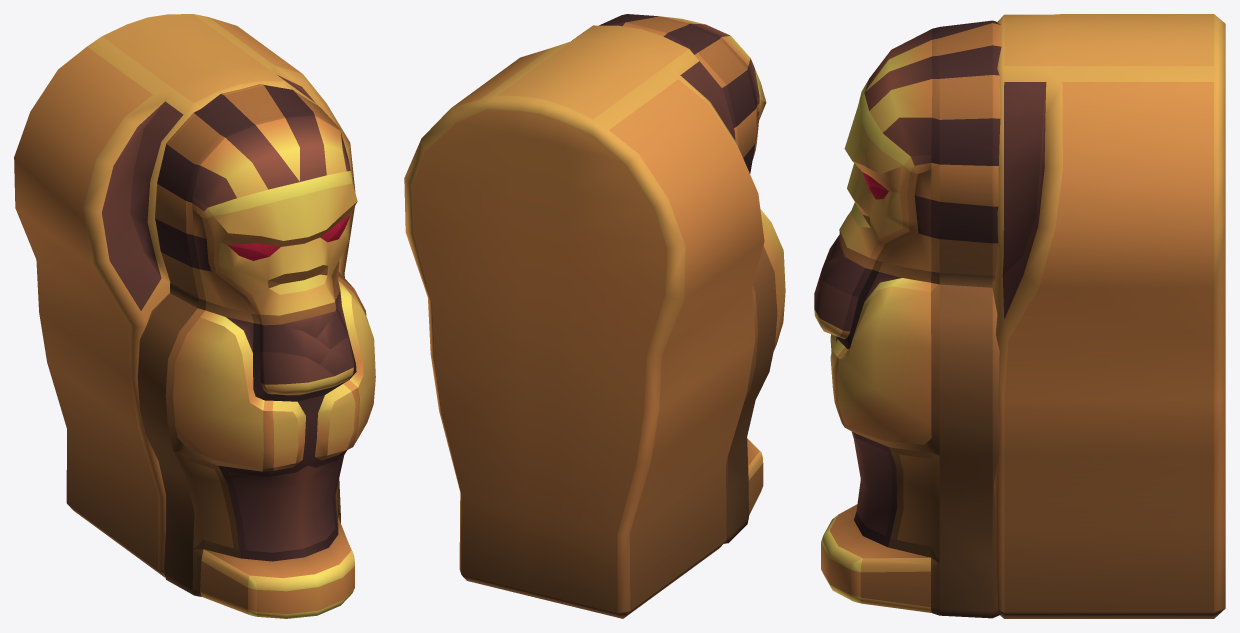
File: sarcophagus_standing_large.fbx
3 views of the same model, side by side, from view 1: azimuth 30°, elevation 25°; view 2: azimuth 150°, elevation 25°; view 3: azimuth 270°, elevation 25° (orthographic). The views are drawn at different scales.
Parts seen in each view (by area): view 1: sarcophagus_standing_large_lid, sarcophagus_standing_large; view 2: sarcophagus_standing_large, sarcophagus_standing_large_lid; view 3: sarcophagus_standing_large, sarcophagus_standing_large_lid.
Part boxes in pixels (x1=…): sarcophagus_standing_large_lid: x1=137, y1=84, x2=375, y2=618; sarcophagus_standing_large: x1=14, y1=14, x2=355, y2=577; sarcophagus_standing_large: x1=404, y1=25, x2=764, y2=618; sarcophagus_standing_large_lid: x1=599, y1=14, x2=785, y2=543; sarcophagus_standing_large: x1=992, y1=14, x2=1225, y2=618; sarcophagus_standing_large_lid: x1=814, y1=20, x2=1001, y2=618.
Size of the model in its own units: 152 by 259 by 176.
